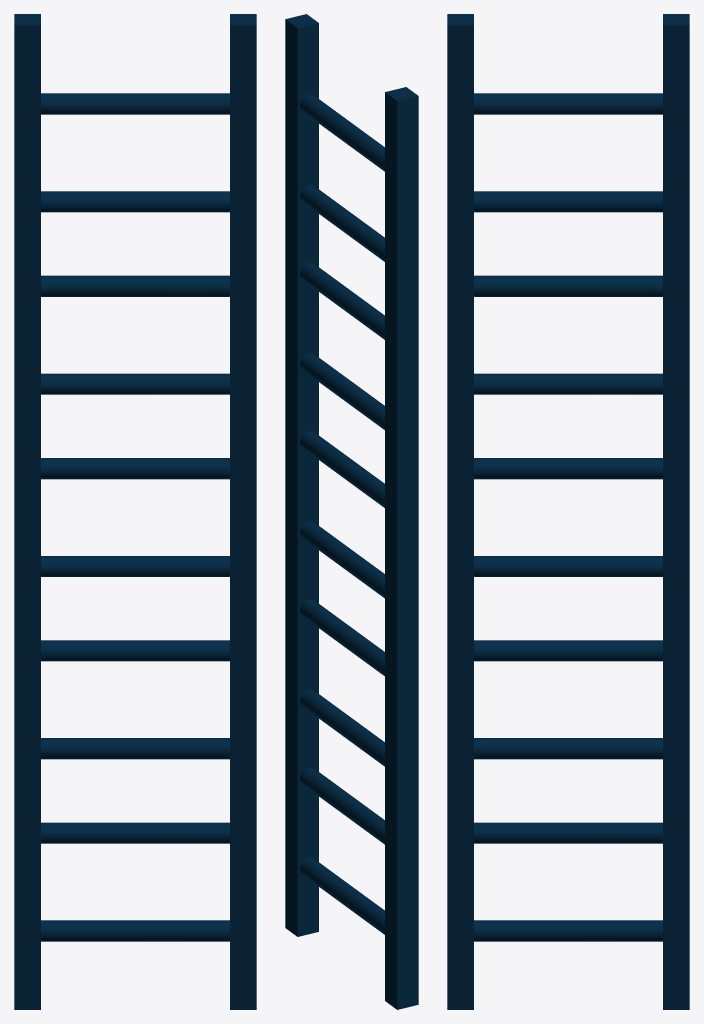
Rendered from Ladder.fbx.
3 renders of one model, left to right at view 1: azimuth 90°, elevation 25°; view 2: azimuth 210°, elevation 25°; view 3: azimuth 270°, elevation 25°, orthographic. The views are drawn at different scales.
Visible parts, largest first — view 1: Ladder; view 2: Ladder; view 3: Ladder.
Part boxes in pixels (x1,y1,x2,y2): Ladder: (14, 14, 256, 1009); Ladder: (285, 14, 418, 1009); Ladder: (447, 14, 689, 1009).
Bounding box in the file's own units: 9.86 × 403 × 89.86.
